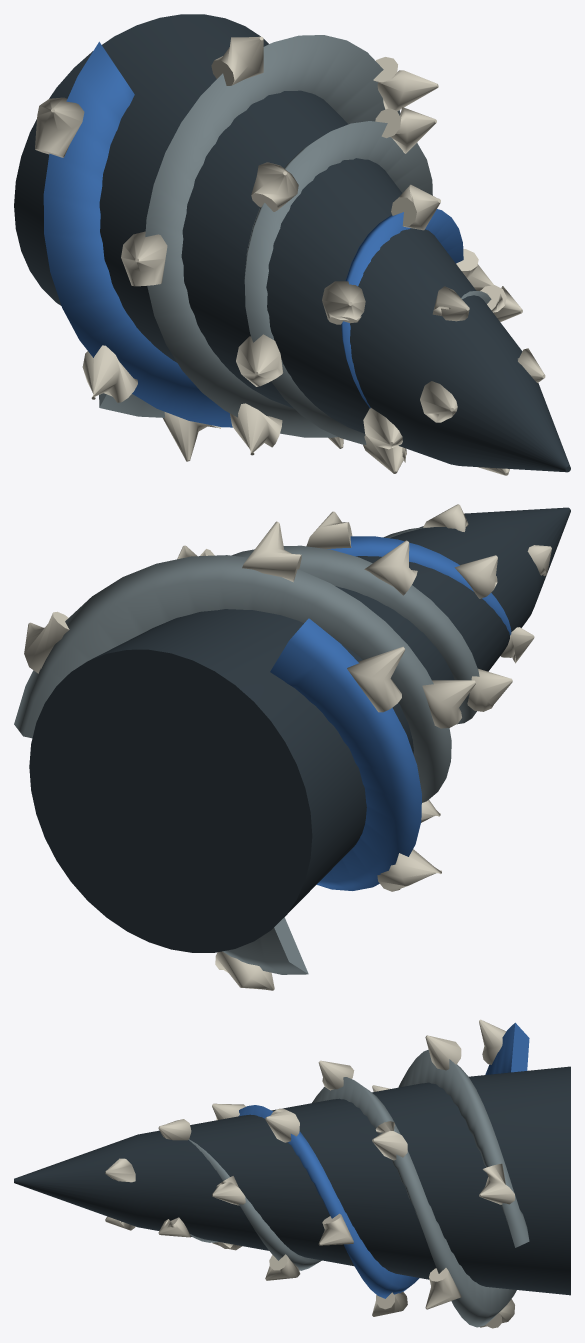
File: ice_auger.glb
3 renders of one model, top to bottom at view 1: azimuth 30°, elevation 25°; view 2: azimuth 150°, elevation 25°; view 3: azimuth 270°, elevation 25°, orthographic. The views are drawn at different scales.
Visible parts, largest first — view 1: ice_auger; view 2: ice_auger; view 3: ice_auger.
Part boxes in pixels (<box>): ice_auger: <box>14,14,570,475</box>; ice_auger: <box>14,504,570,990</box>; ice_auger: <box>14,1019,570,1328</box>.
Size of the model in its own units: 10.1 by 10.82 by 18.
